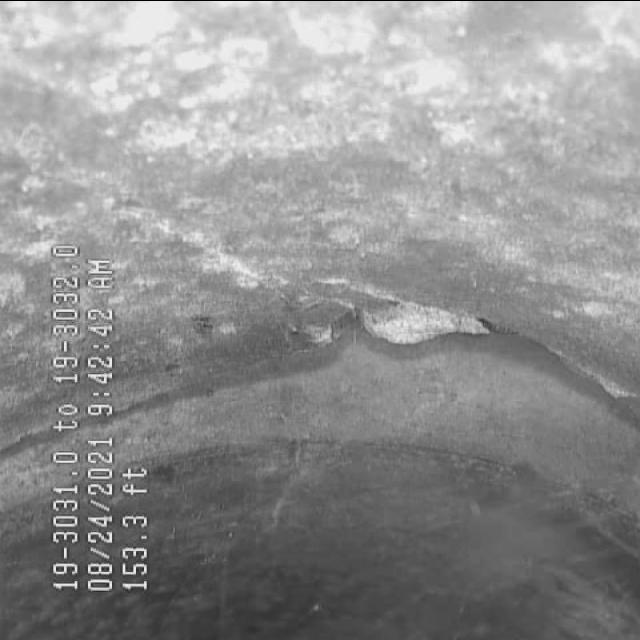Fracture: (174, 210, 576, 386)
